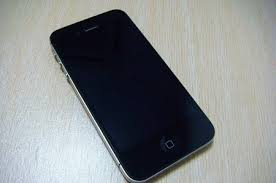mobil: (49, 8, 216, 182)
